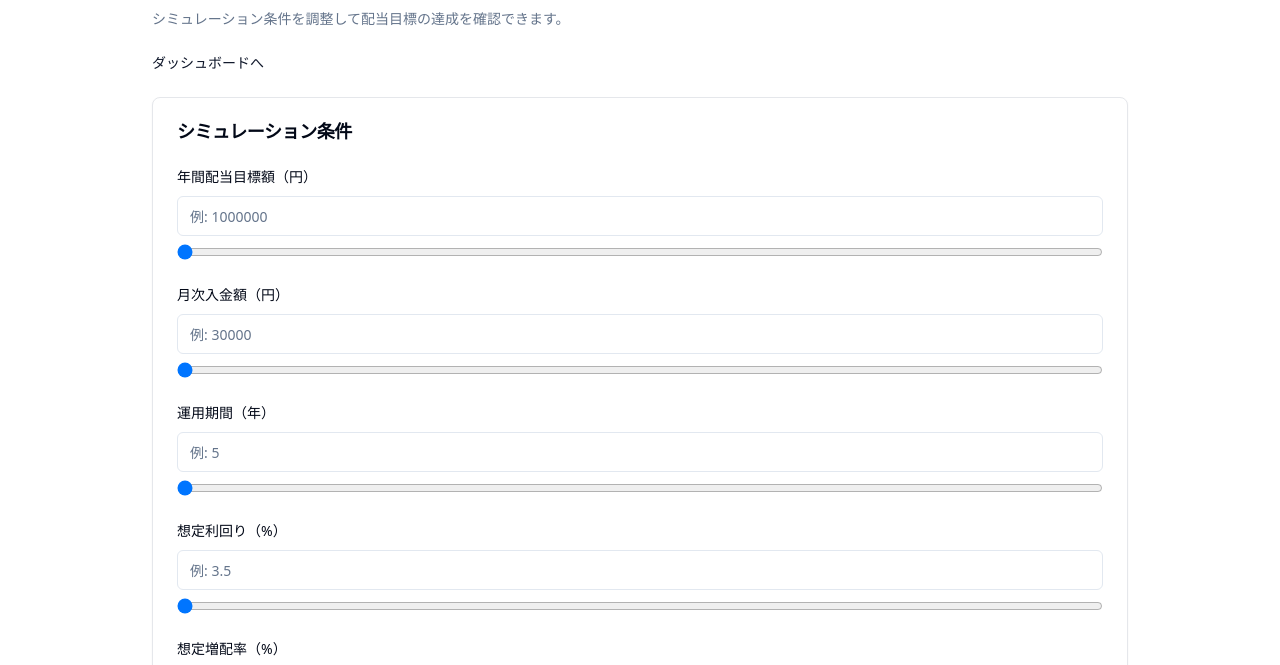
Test: DividendGoalSimulationPage integration › シミュレーション失敗時にエラーメッセージが表示される
Step 1. Type "1000000" into the number field labelled "年間配当目標額（円）" → {"x": 640, "y": 216}, box x1=177 y1=196 x2=1103 y2=236
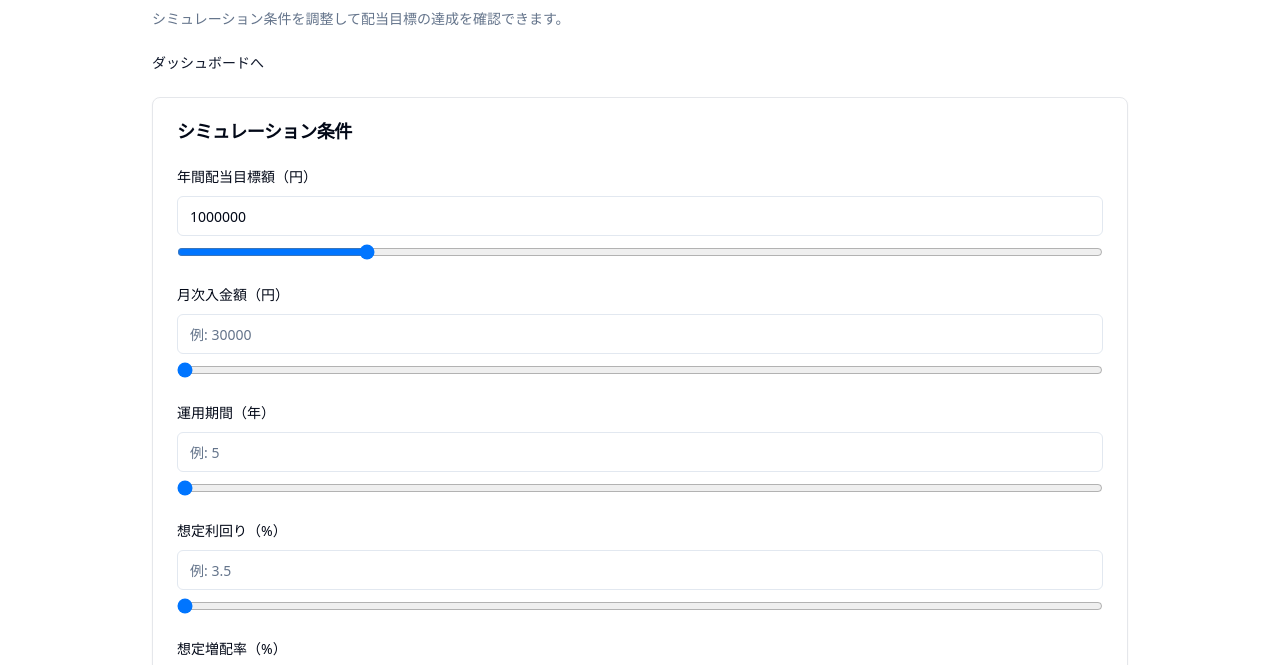
Step 2. Type "30000" into the number field labelled "月次入金額（円）" → {"x": 640, "y": 334}, box x1=177 y1=314 x2=1103 y2=354
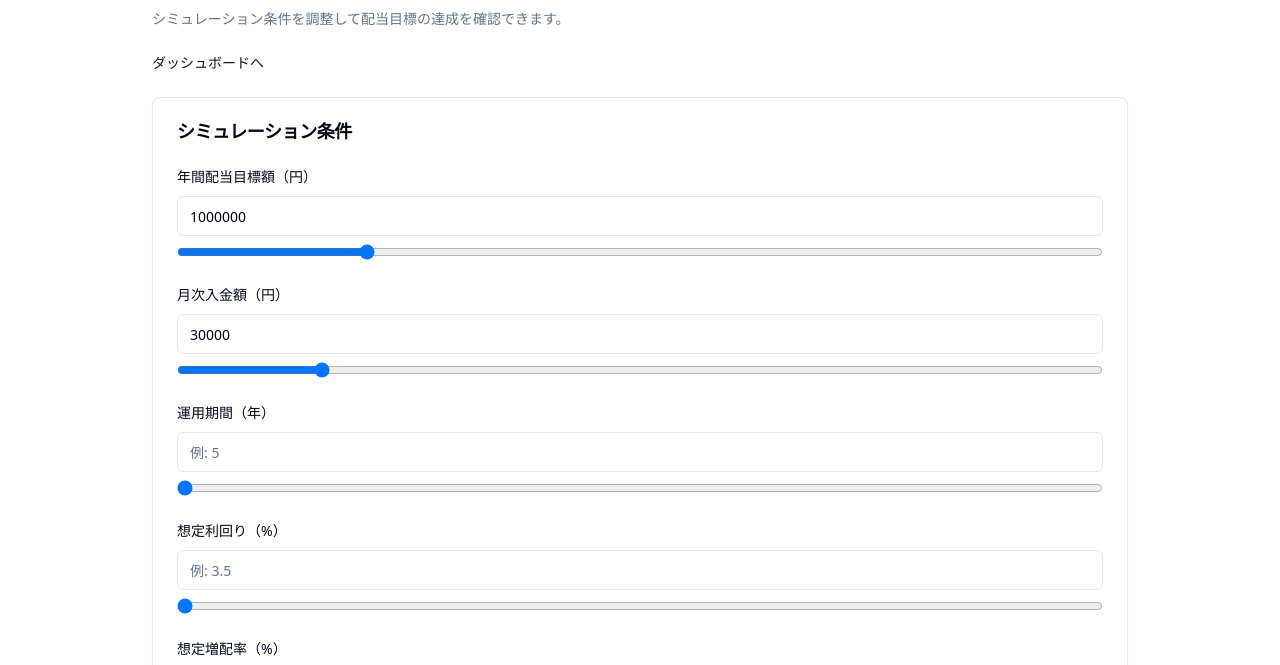
Step 3. Type "5" into the number field labelled "運用期間（年）" → {"x": 640, "y": 452}, box x1=177 y1=432 x2=1103 y2=472
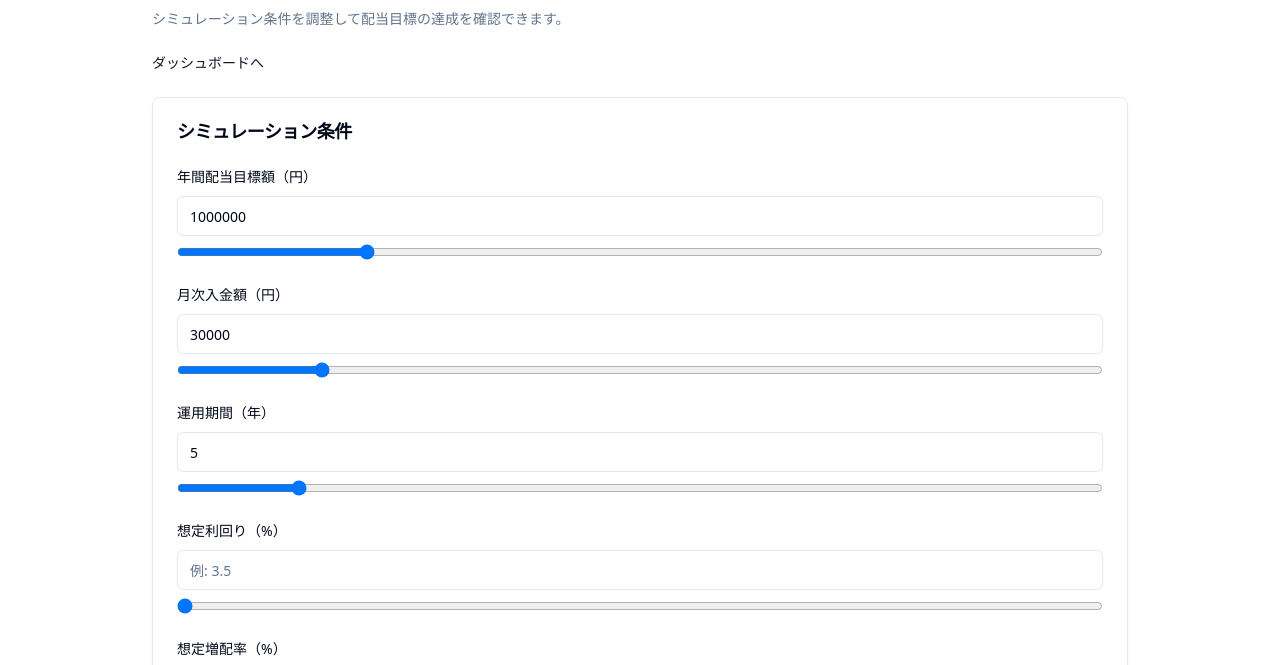
Step 4. Type "3.5" into the number field labelled "想定利回り（%）" → {"x": 640, "y": 570}, box x1=177 y1=550 x2=1103 y2=590
(page scrolled)
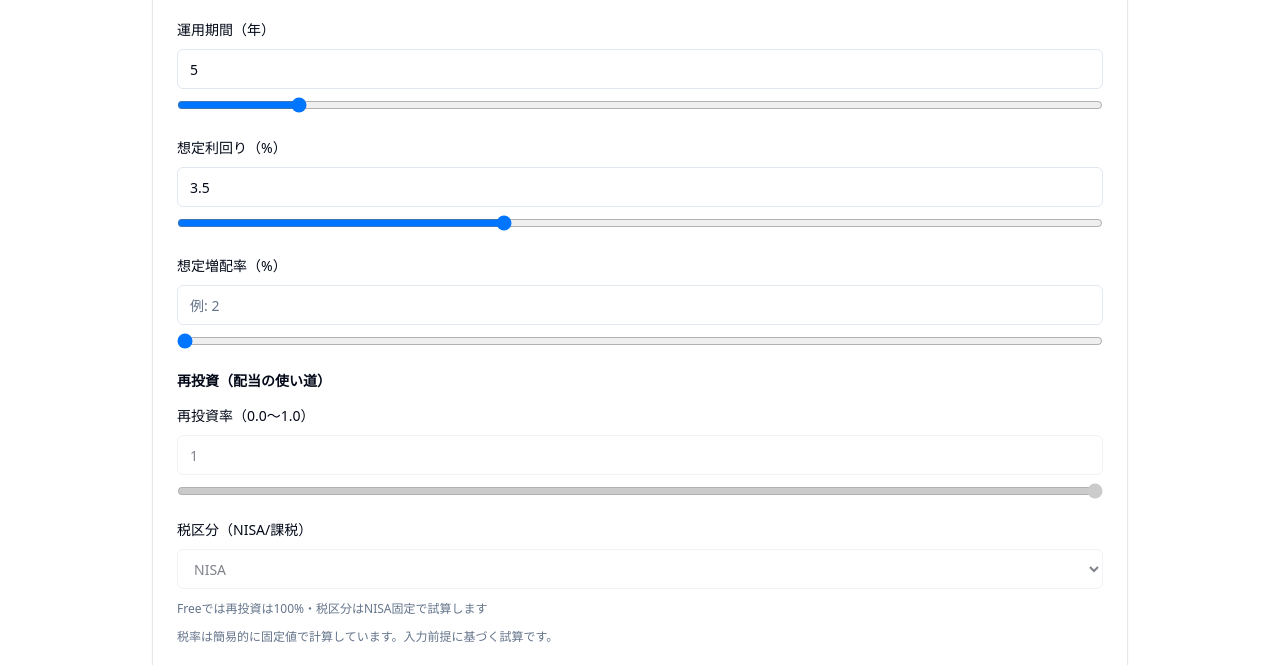
Step 5. Type "2" into the number field labelled "想定増配率（%）" → {"x": 640, "y": 305}, box x1=177 y1=285 x2=1103 y2=325
(page scrolled)
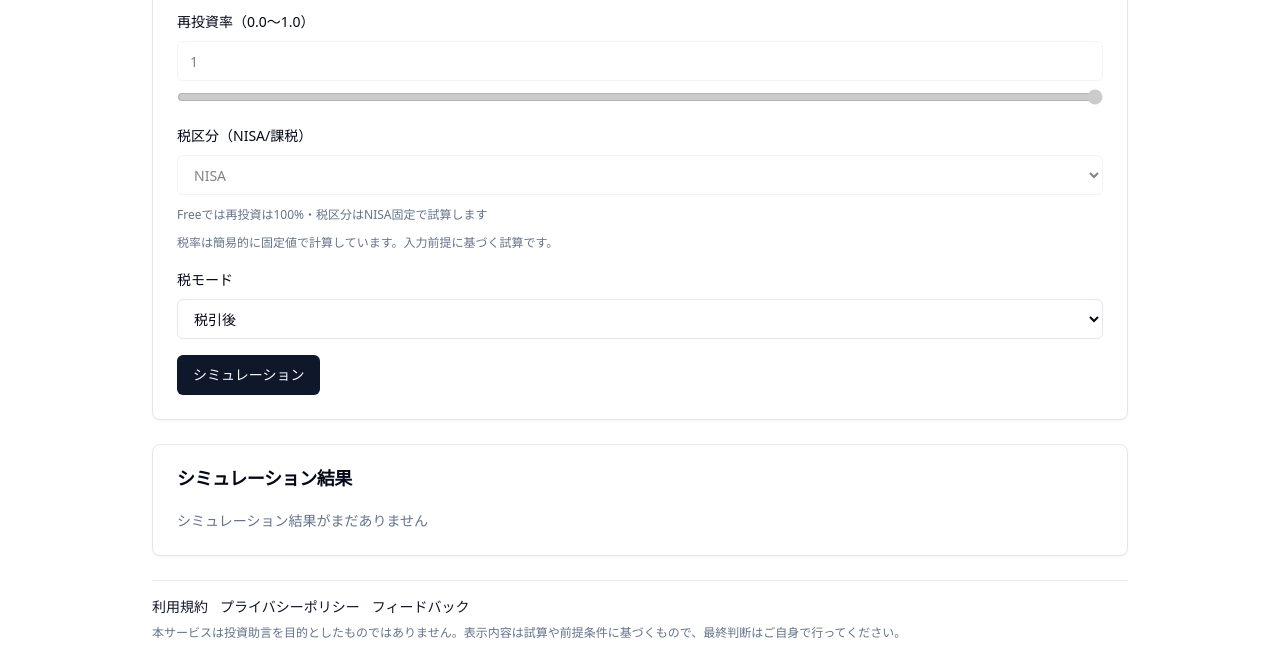
Step 6. Click the button "シミュレーション" → {"x": 249, "y": 375}, box x1=177 y1=355 x2=320 y2=395
(page scrolled)
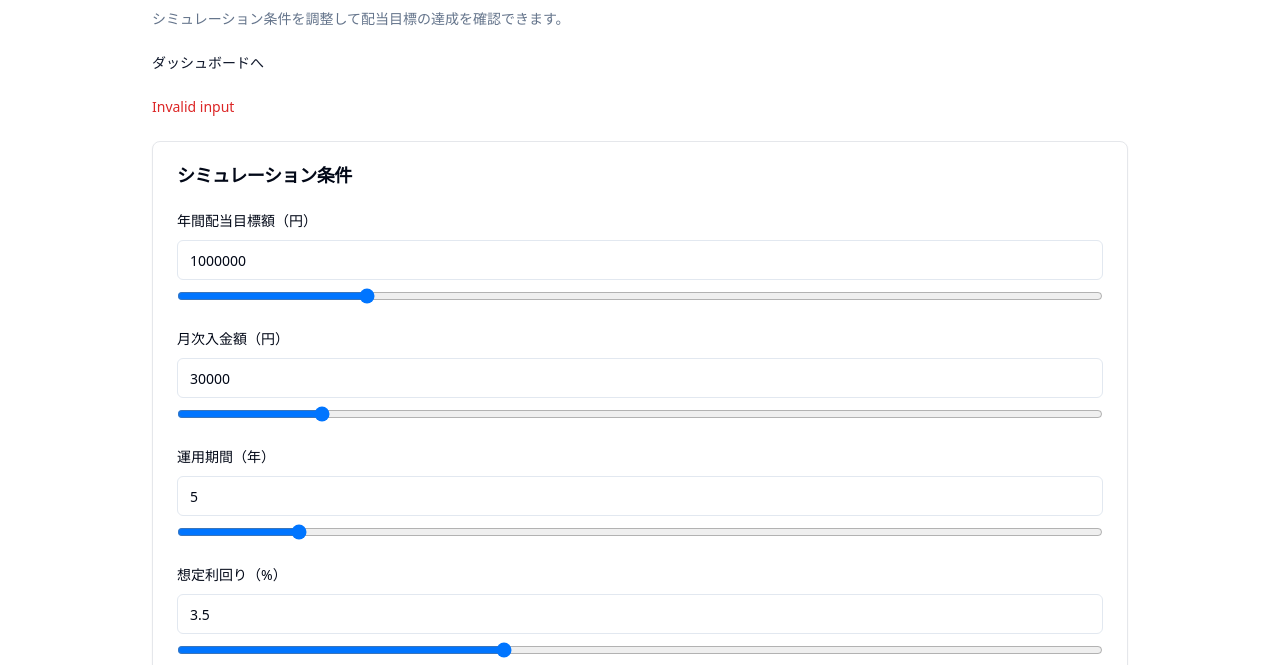
Now the text "Invalid input" is shown, box x1=152 y1=97 x2=234 y2=116
